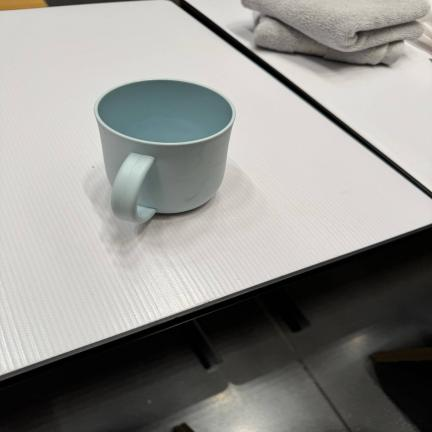cup: (95, 80, 235, 223)
